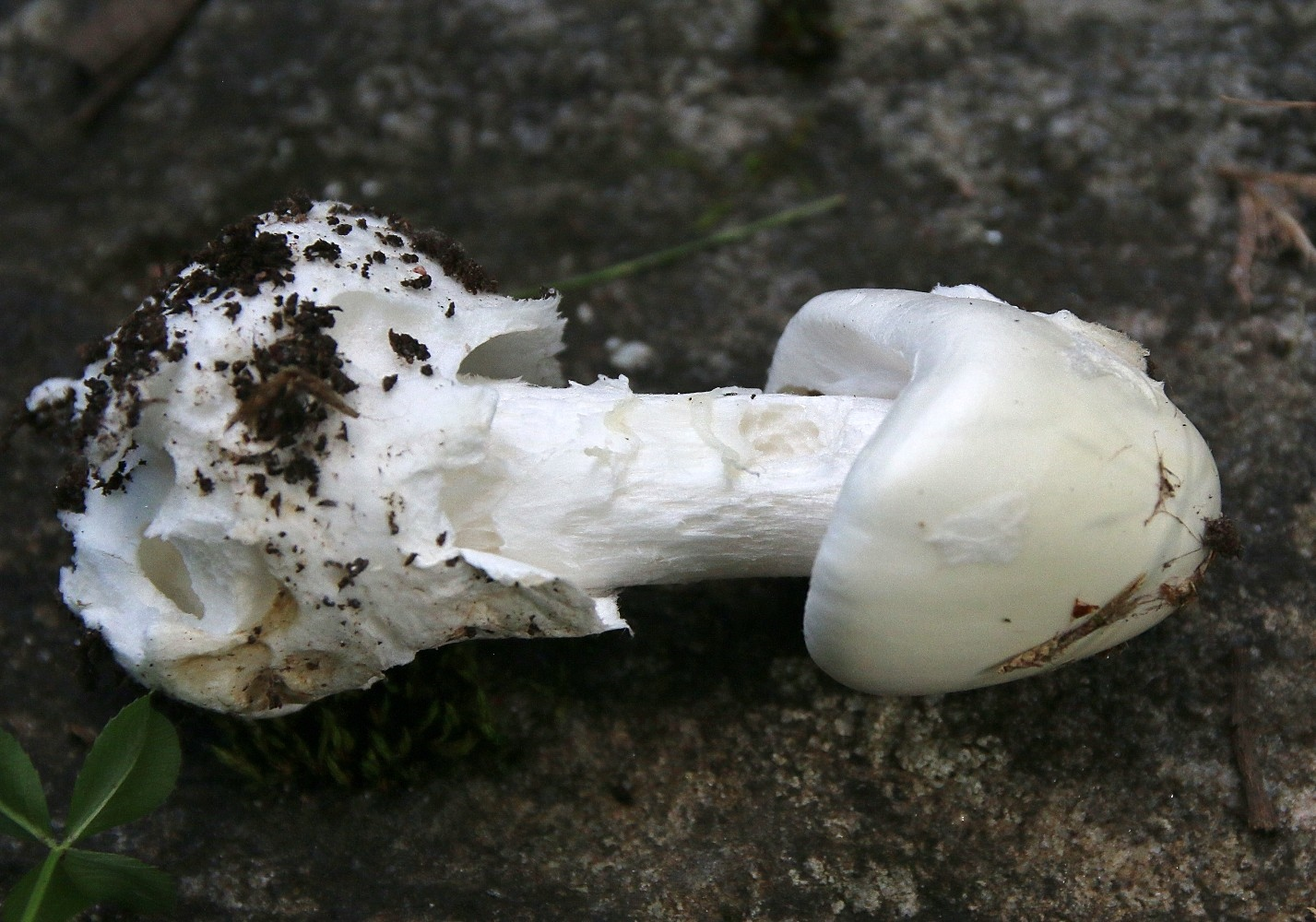cap: (769, 289, 1219, 692)
stem: (438, 378, 888, 597)
